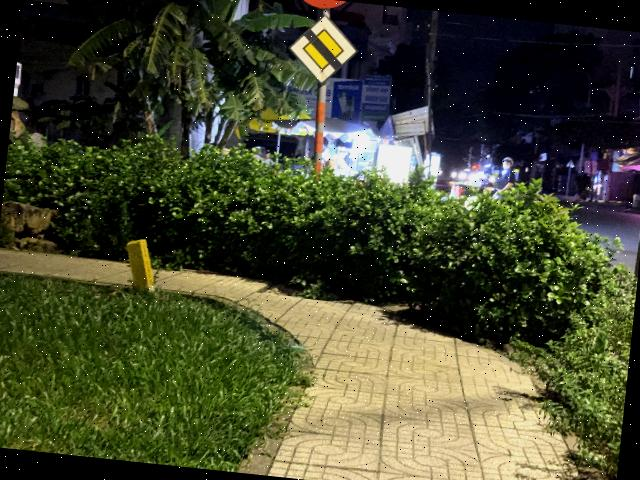het-duong-uu-tien: (284, 11, 363, 90)
